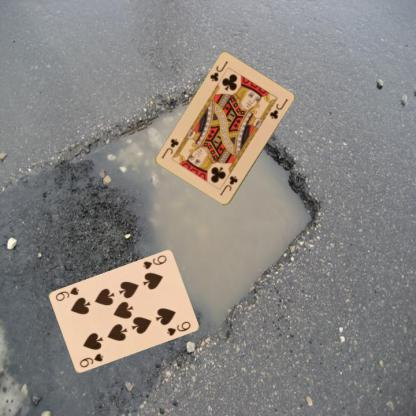9s: (140, 252, 167, 271), (77, 351, 104, 369)
Jc: (207, 58, 230, 84), (217, 173, 239, 197)
